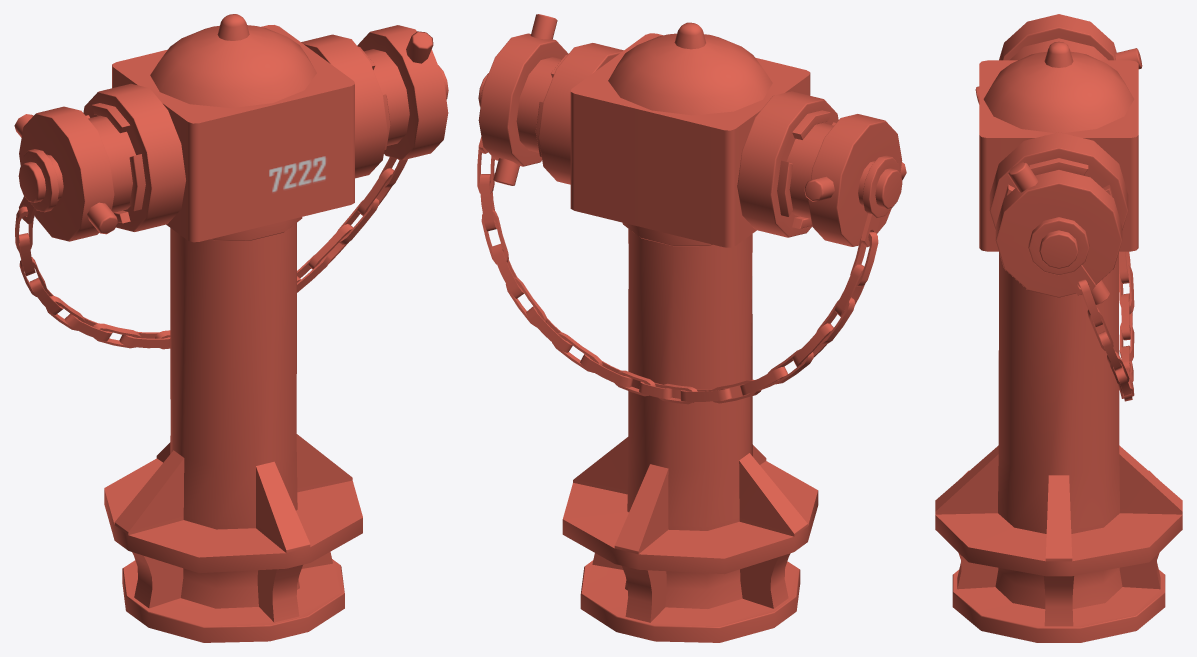
File: fireHydrant.fbx
3 views of the same model, side by side, from view 1: azimuth 30°, elevation 25°; view 2: azimuth 150°, elevation 25°; view 3: azimuth 270°, elevation 25° (orthographic). The views are drawn at different scales.
Parts seen in each view (by area): view 1: fireHydrant_lo; view 2: fireHydrant_lo; view 3: fireHydrant_lo.
Boxes of the visible parts, x1,y1,x2,y2 form: fireHydrant_lo: (14,14,448,642); fireHydrant_lo: (477,14,906,642); fireHydrant_lo: (935,14,1182,642).
Bounding box in the file's own units: 0.7957 × 1.07 × 0.4345.
